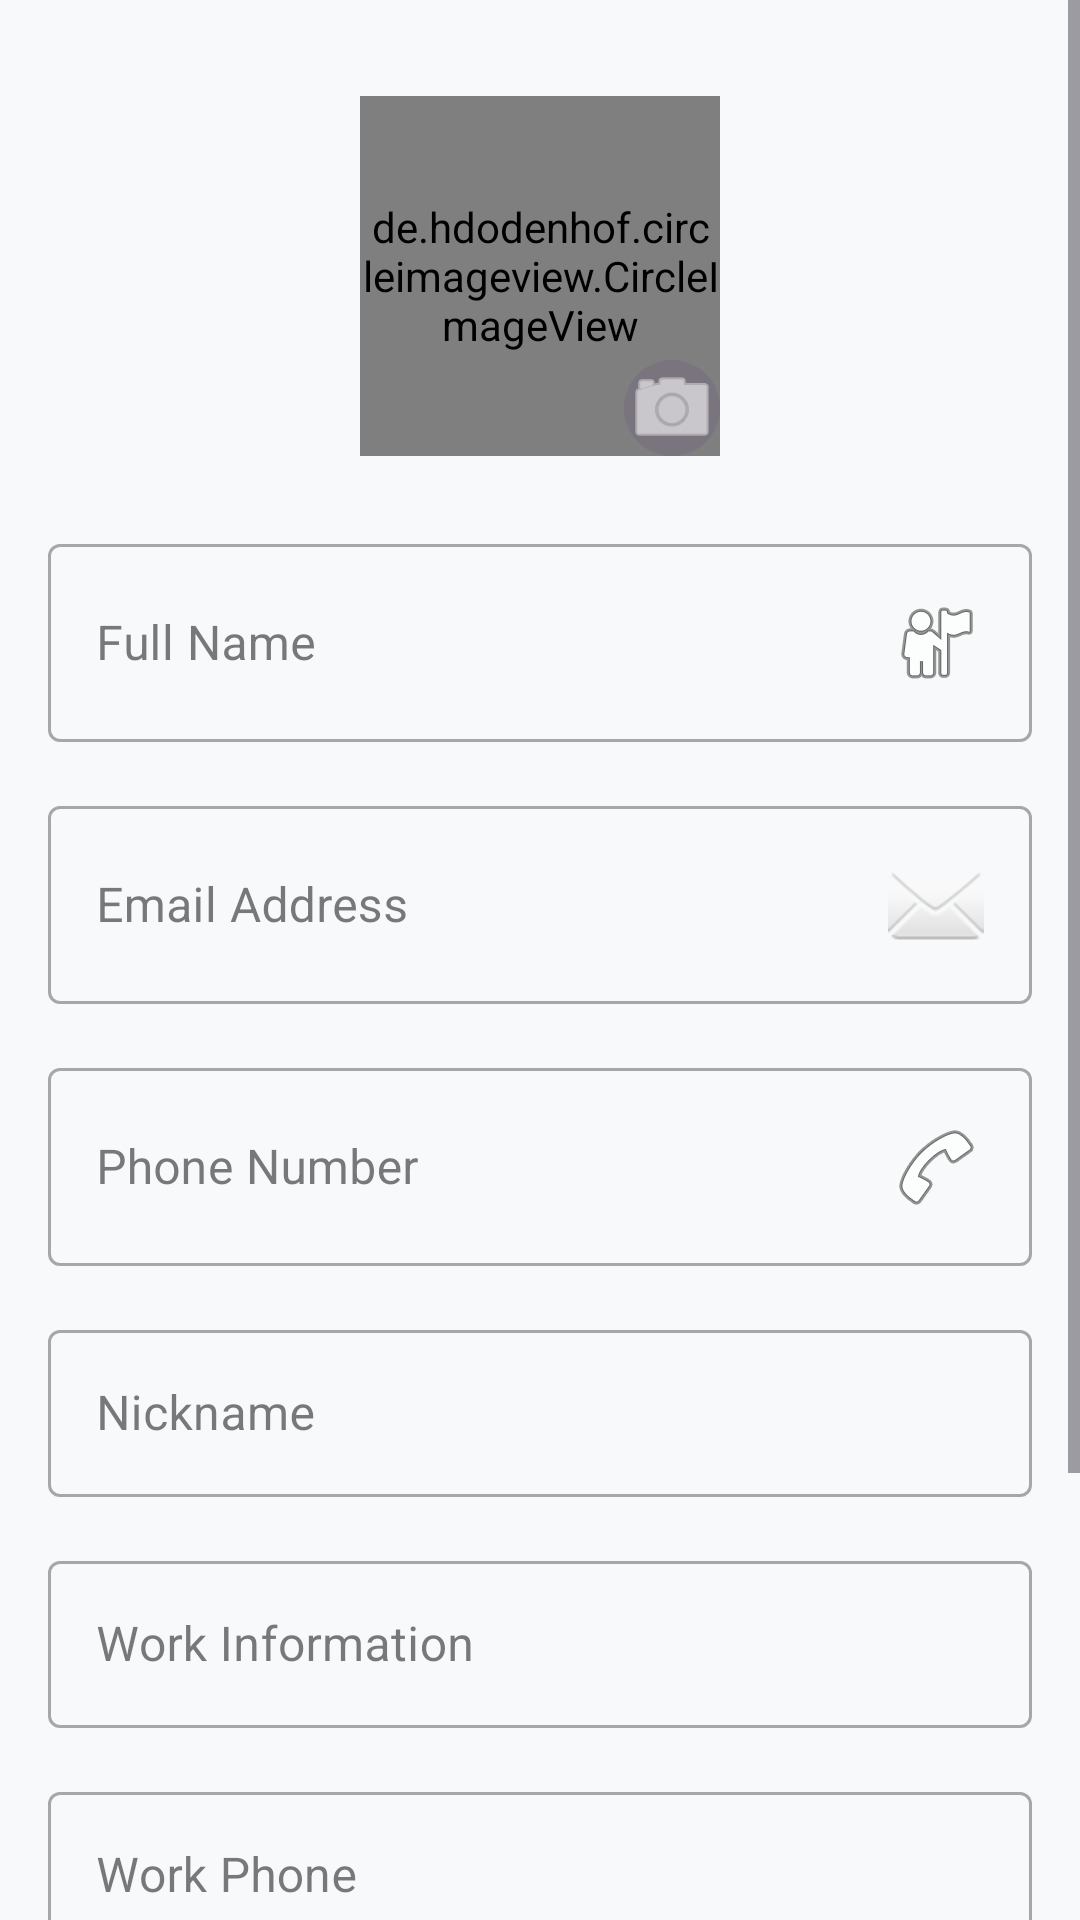

Icons on this 1080x1920 Android screen, each with the point to tap as (x,y):
camera: (672,406)
